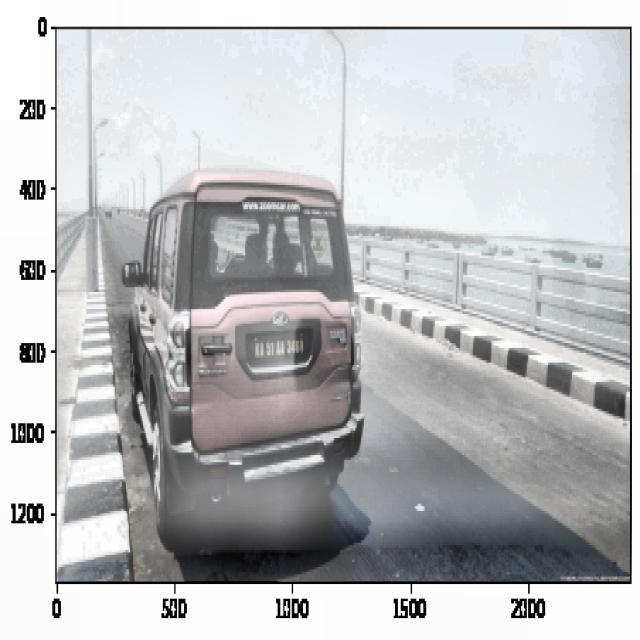license_plate: (251, 332, 307, 362)
